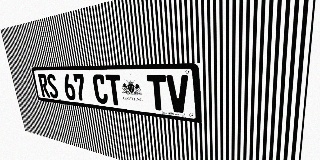6: (62, 74, 76, 101)
7: (72, 74, 88, 102)
C: (92, 74, 109, 104)
R: (38, 74, 50, 98)
S: (46, 74, 59, 99)
T: (146, 75, 168, 111), (105, 74, 123, 106)
V: (166, 75, 190, 114)
